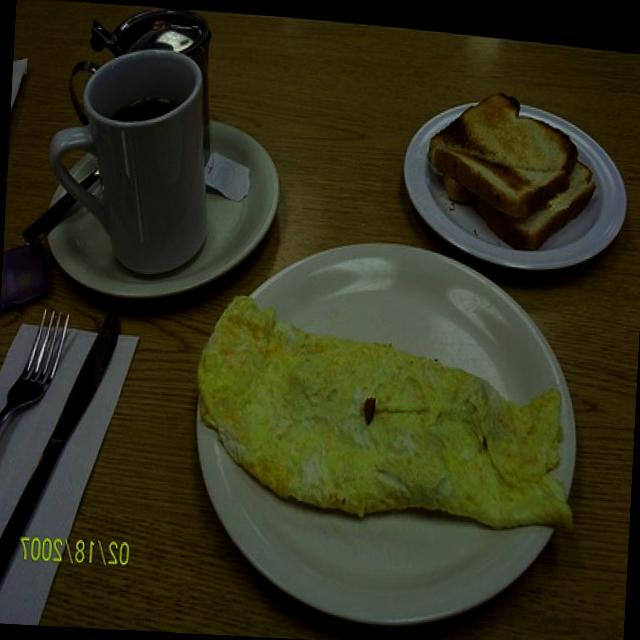Omelet: (188, 290, 582, 537)
